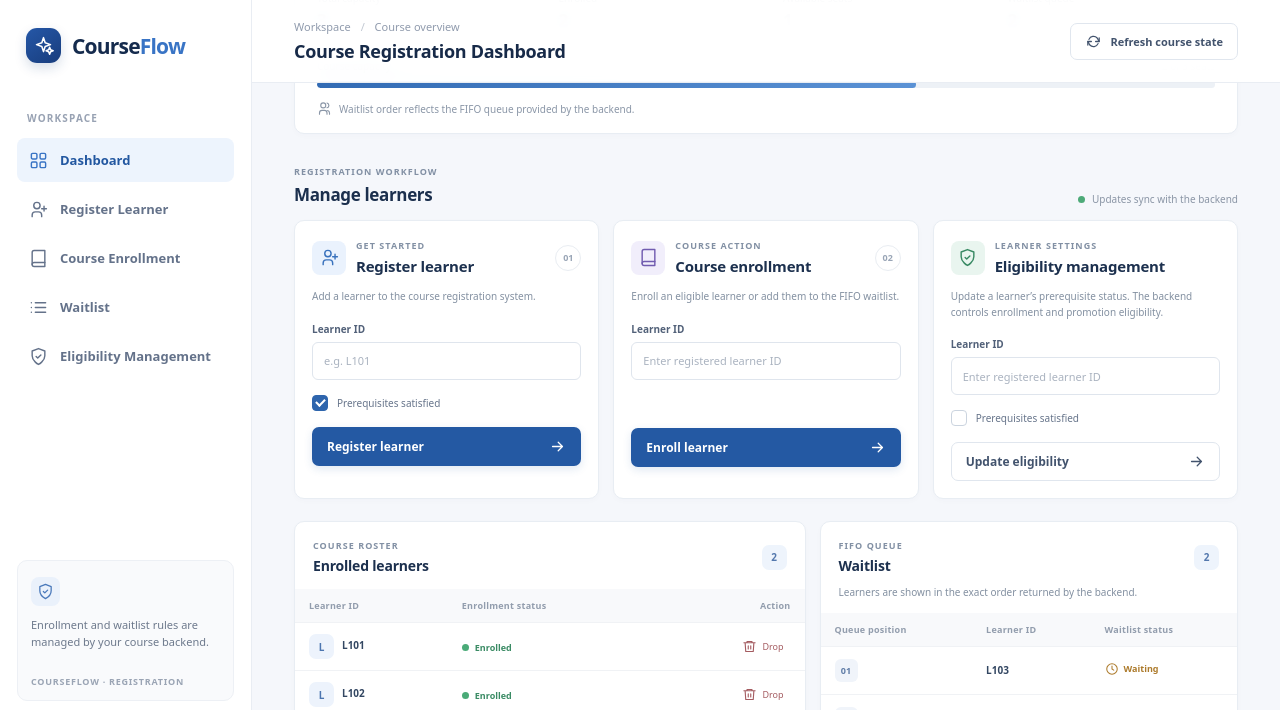
Test: CourseFlow dashboard › registers a learner with the entered ID and prerequisite boolean
(page scrolled)
Type "L205" into the field labelled "Learner ID" below "GET STARTED" at x=447, y=360, box x1=312 y1=342 x2=581 y2=380
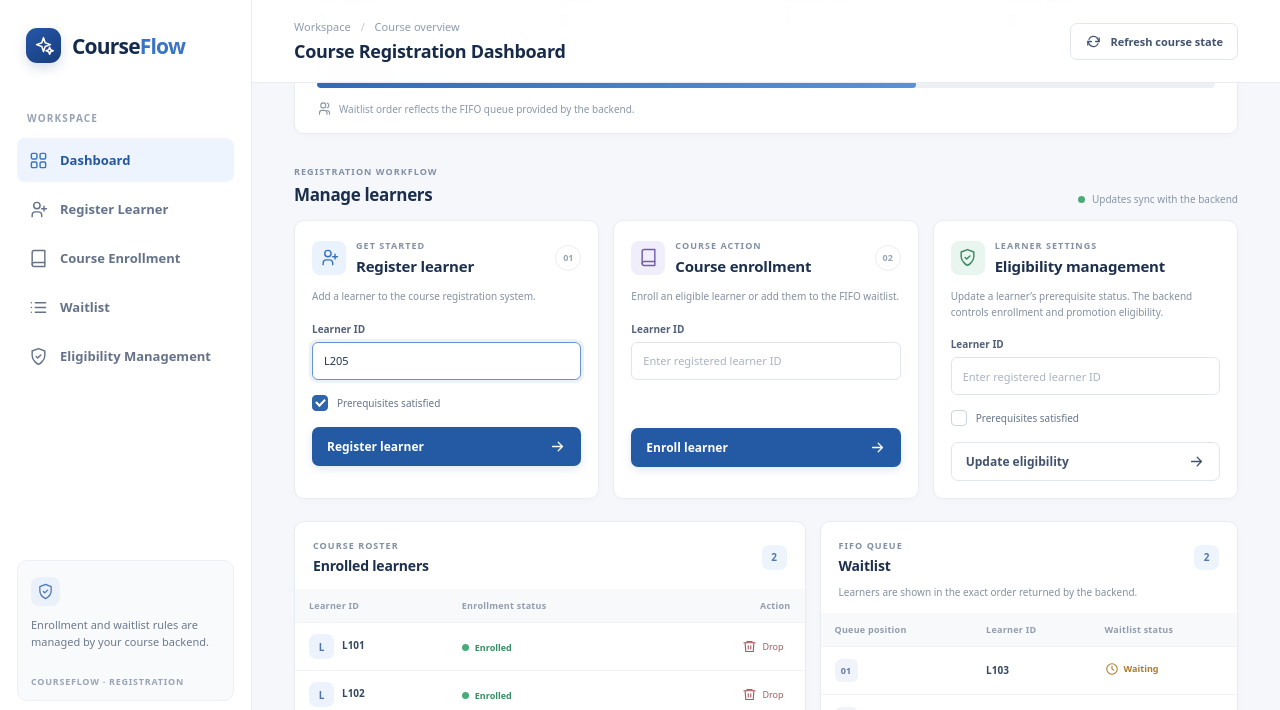
Click the button "Register learner" at x=375, y=446, box x1=312 y1=426 x2=581 y2=466
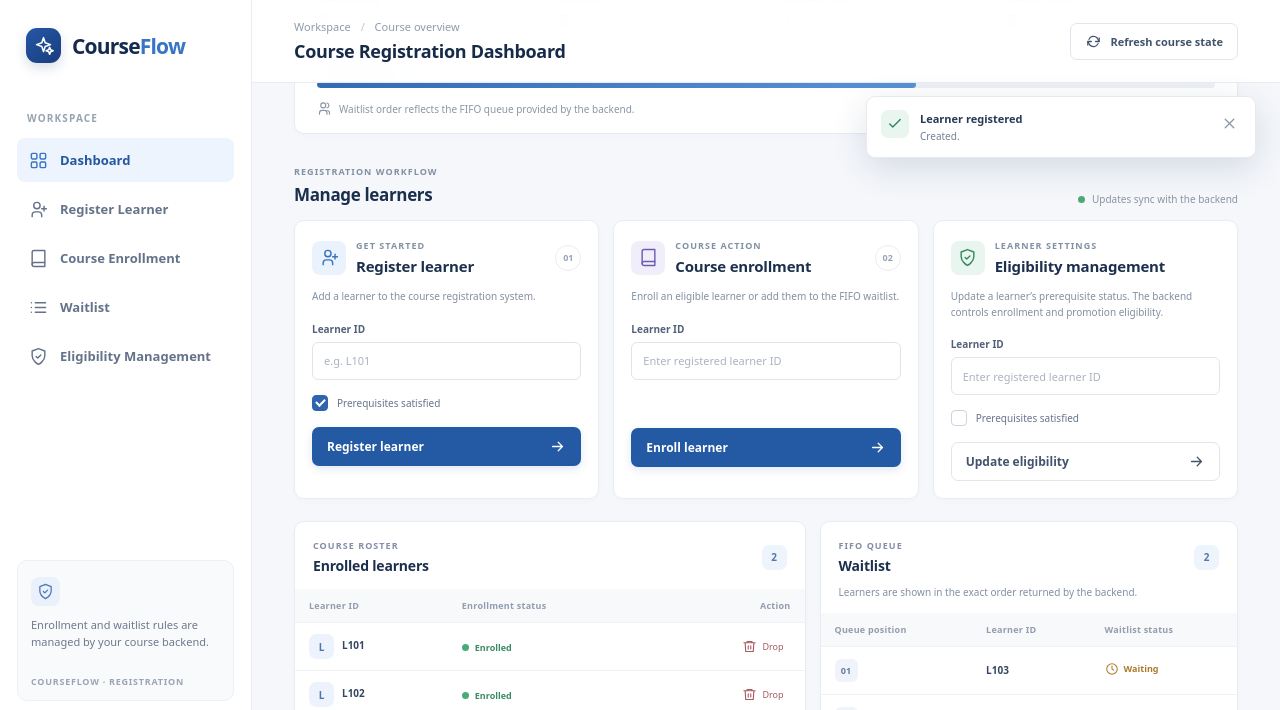
Result: the text "Created." is shown at x1=920 y1=129 x2=960 y2=143
